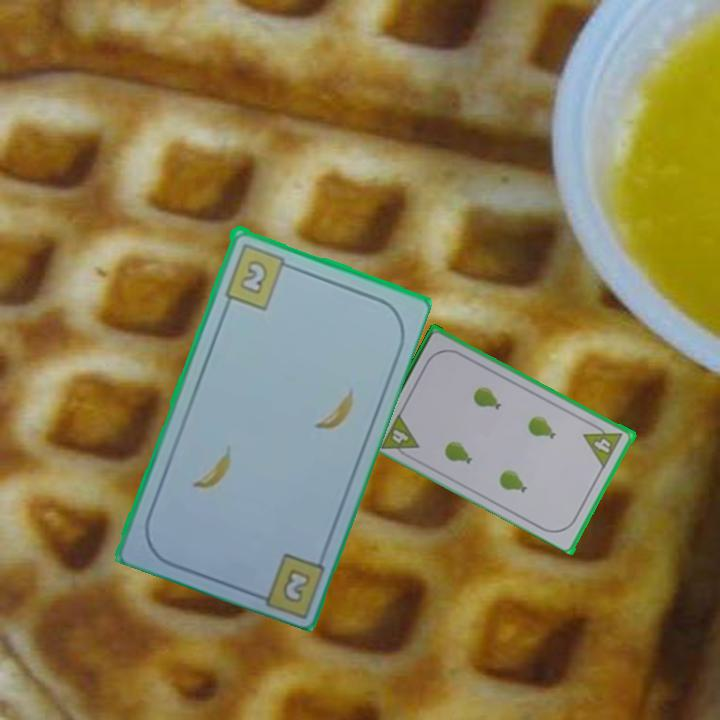2b: (220, 239, 296, 312), (278, 564, 313, 606)
4p: (581, 433, 616, 469), (389, 425, 412, 446)
